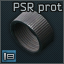AWC PSR muzzle brake protector: (0, 0, 64, 64)
